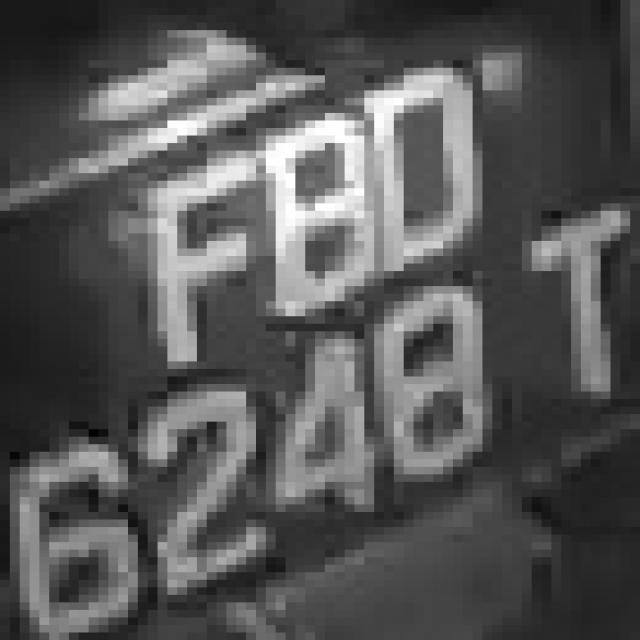2: (138, 407, 285, 602)
4: (226, 324, 404, 542)
6: (10, 407, 138, 618)
8: (345, 264, 512, 460)
B: (236, 106, 364, 316)
D: (355, 75, 502, 264)
F: (128, 128, 236, 376)
T: (502, 218, 611, 422)
